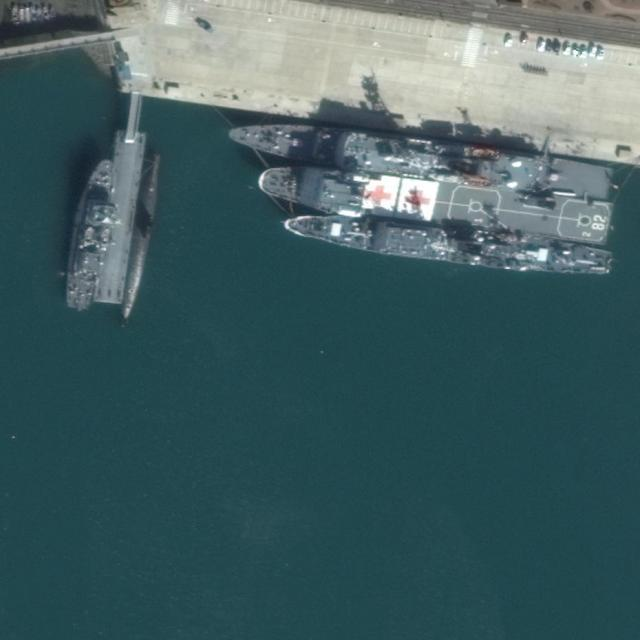Auxiliary Ships: (259, 156, 612, 250)
Other Warship: (226, 113, 618, 204), (281, 210, 615, 281), (61, 158, 119, 312)
Submarine: (118, 148, 166, 324)
